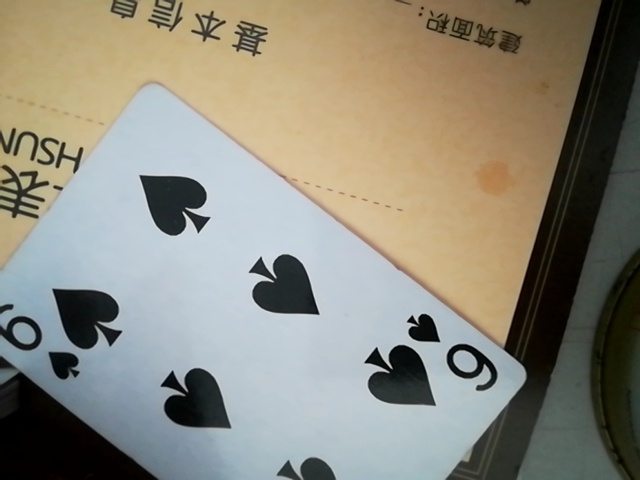ht 6: (3, 89, 534, 480)
